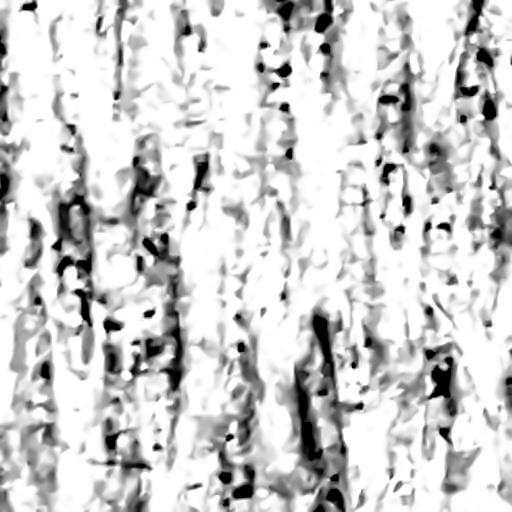egg: (187, 154, 207, 211), (431, 358, 450, 397), (466, 0, 484, 34), (74, 289, 90, 326), (143, 237, 164, 257), (315, 13, 331, 32), (57, 256, 73, 275), (482, 98, 496, 119), (477, 47, 491, 67), (382, 163, 396, 183), (234, 483, 250, 498), (459, 85, 477, 96), (277, 63, 291, 77), (379, 94, 398, 104), (219, 471, 231, 483)
